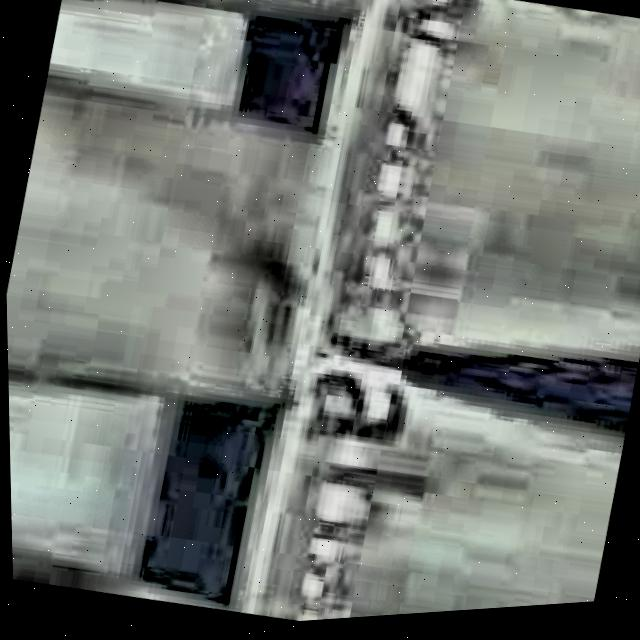paper: (1, 13, 372, 491), (289, 0, 640, 414), (232, 318, 636, 628)
